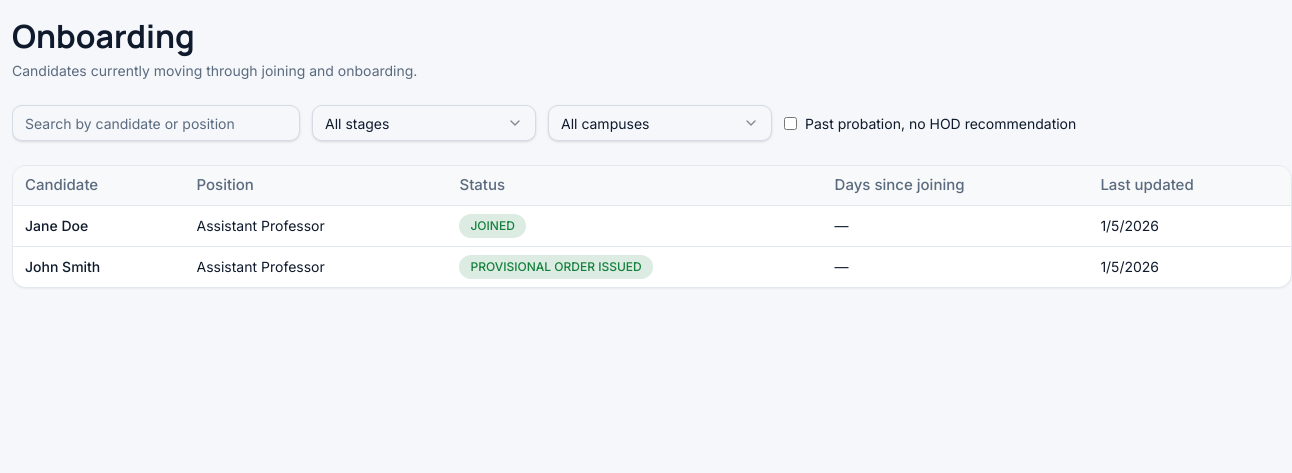
Test: OnboardingListPage › lists the provisional-order stage in its place and filters by it
Expected: the link "John Smith" is shown, [25,258,100,275]
Click the dropdown named "Stage filter": (424, 123) [312,105,536,141]
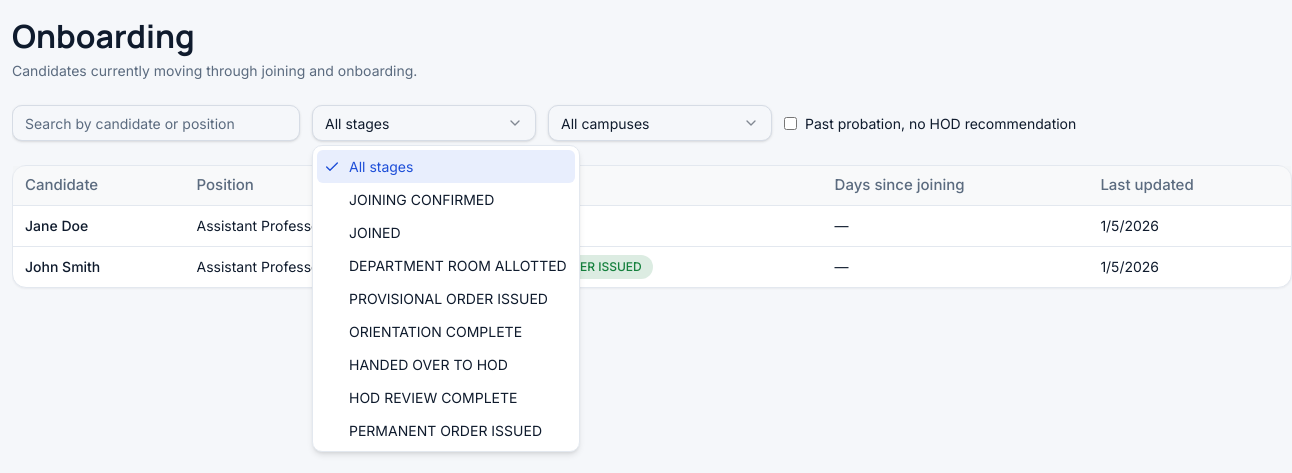
Click the option "PROVISIONAL ORDER ISSUED": (448, 298) [349,290,548,307]
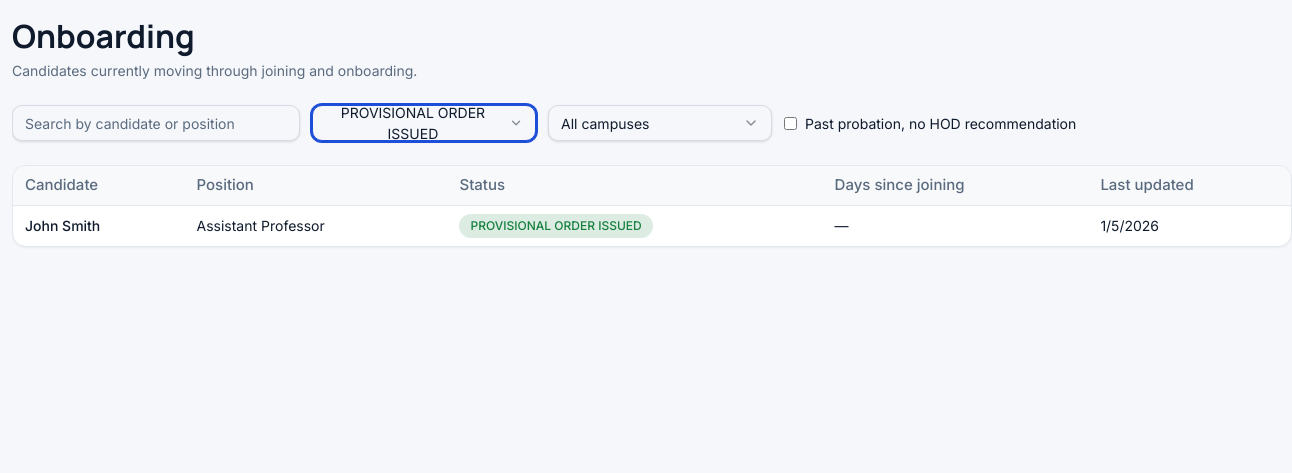
Expected: the link "John Smith" is shown, [25,217,100,234]
Now the link "Jane Doe" is gone
